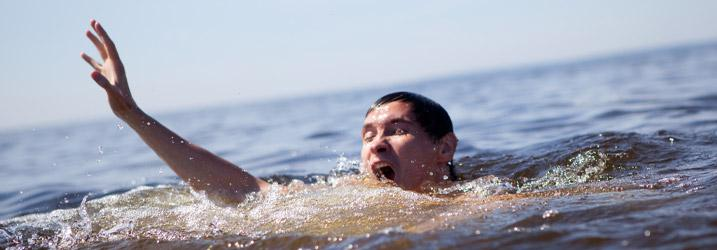drowning: (70, 4, 507, 222)
